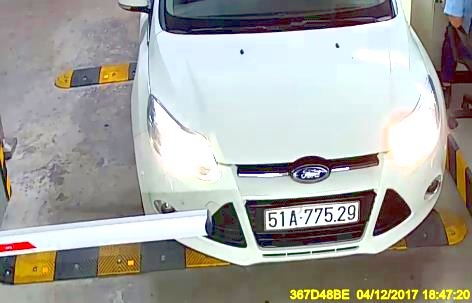plate: (265, 199, 361, 230)
